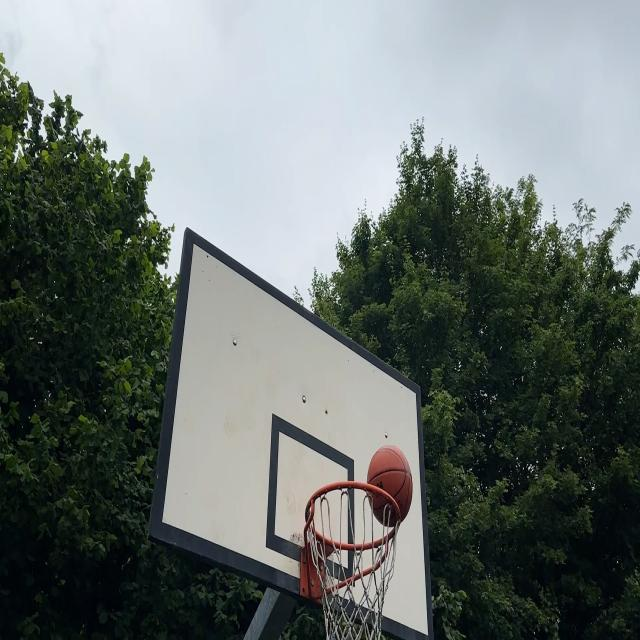rebound_hit: (366, 446, 414, 528)
